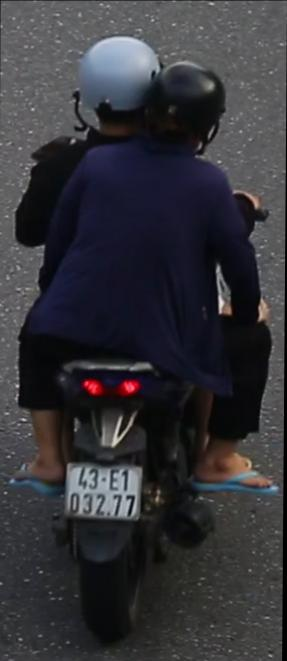LP: (62, 457, 146, 524)
helmet: (69, 30, 167, 152), (145, 54, 229, 156)
